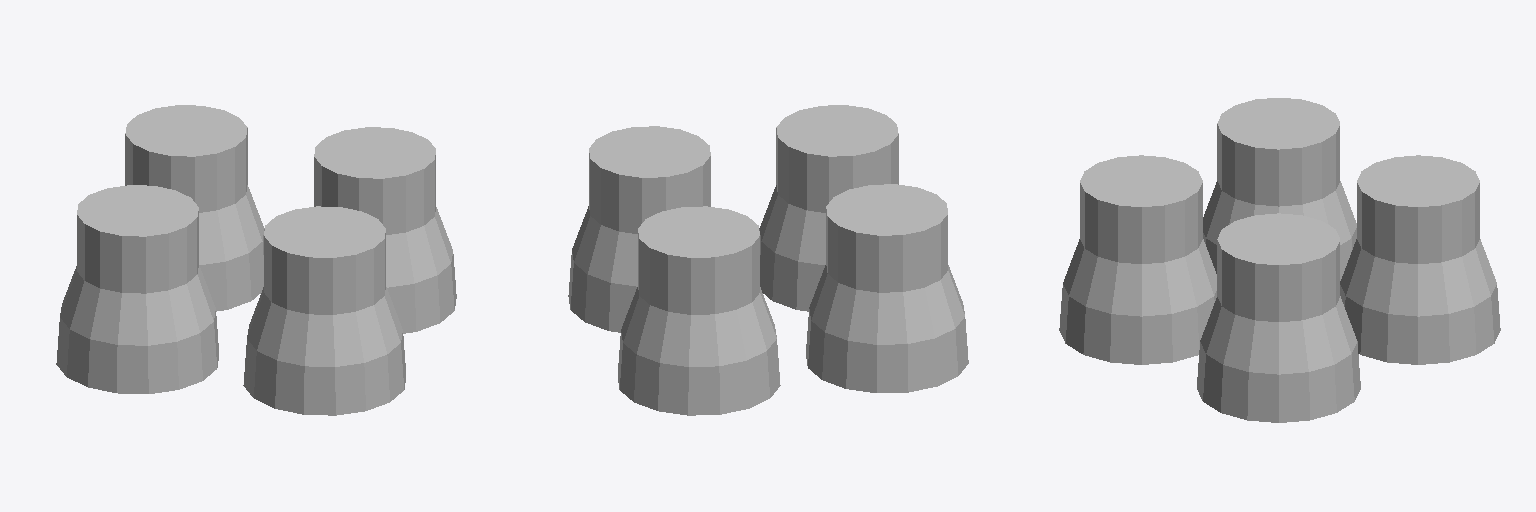
File: soyuz_Thruster_01.obj
The picture shows the model from 3 angles: view 1: azimuth 30°, elevation 25°; view 2: azimuth 150°, elevation 25°; view 3: azimuth 270°, elevation 25°; orthographic projection.
Parts seen in each view (by area): view 1: Thrusters; view 2: Thrusters; view 3: Thrusters.
Boxes of the visible parts, <box> form: Thrusters: <box>56,105,456,415</box>; Thrusters: <box>568,105,968,415</box>; Thrusters: <box>1059,98,1500,422</box>.
Size of the model in its own units: 3.83 by 1.44 by 3.85.